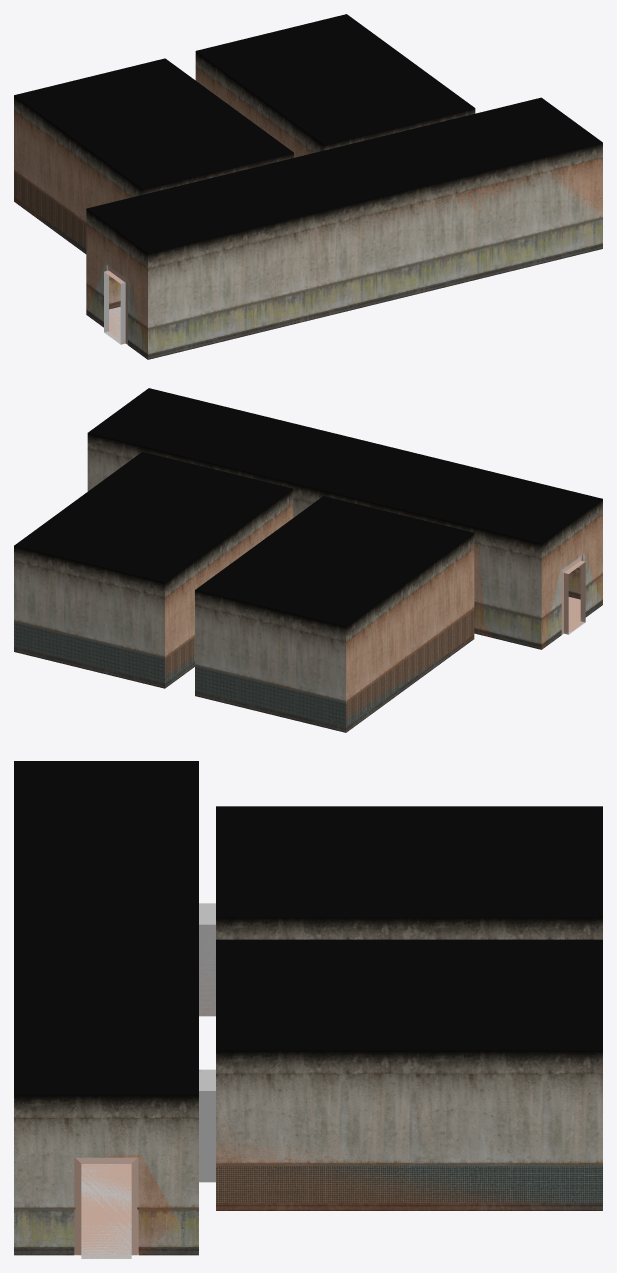
Rendered from Bathroom_4x3.FBX.
3 renders of one model, top to bottom at view 1: azimuth 30°, elevation 25°; view 2: azimuth 150°, elevation 25°; view 3: azimuth 270°, elevation 25°, orthographic. The views are drawn at different scales.
Parts seen in each view (by area): view 1: Bathroom_4x3, Bathroom_Men, Bathroom_Women, Bathroom_4x3_Colllision; view 2: Bathroom_Men, Bathroom_4x3, Bathroom_Women, Bathroom_4x3_Colllision; view 3: Bathroom_Women, Bathroom_4x3, Bathroom_Men, Bathroom_4x3_Colllision.
Boxes of the visible parts, bbox=[...] form: Bathroom_4x3: bbox=[86, 97, 602, 359]; Bathroom_Men: bbox=[14, 58, 293, 253]; Bathroom_Women: bbox=[195, 14, 475, 157]; Bathroom_4x3_Colllision: bbox=[14, 67, 602, 357]; Bathroom_Men: bbox=[195, 496, 474, 732]; Bathroom_4x3: bbox=[87, 388, 602, 649]; Bathroom_Women: bbox=[14, 452, 293, 688]; Bathroom_4x3_Colllision: bbox=[165, 505, 602, 719]; Bathroom_Women: bbox=[216, 939, 602, 1210]; Bathroom_4x3: bbox=[14, 761, 215, 1258]; Bathroom_Men: bbox=[216, 806, 602, 939]; Bathroom_4x3_Colllision: bbox=[74, 993, 579, 1254].
Bounding box in the file's own units: 1890 × 414 × 1378.
